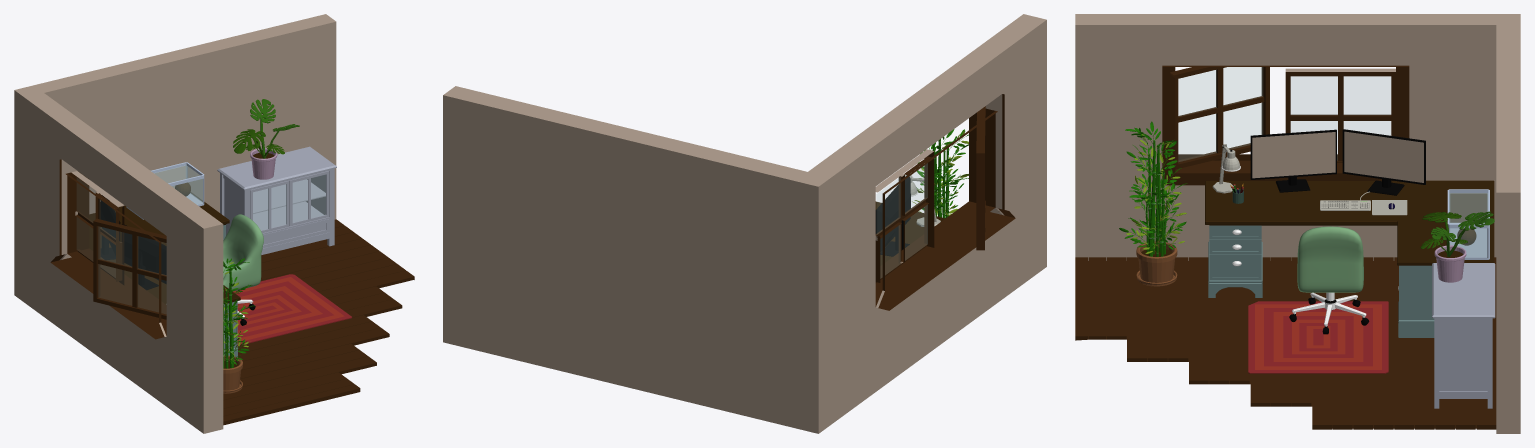
The model's file is screen1.glb.
3 views of the same model, side by side, from view 1: azimuth 30°, elevation 25°; view 2: azimuth 150°, elevation 25°; view 3: azimuth 270°, elevation 25° (orthographic). The views are drawn at different scales.
Parts seen in each view (by area): view 1: walls, cabinet_main, mat, chair_main, monstera, desk_main, bamboo, screen_frame.000, Plane.001, screen_frame.001, pot; view 2: walls, bamboo, screen_frame.000, desk_main; view 3: walls, desk_main, mat, cabinet_main, bamboo, chair_main, screen.001, screen.000, monstera, Plane.001, pot, screen_frame.000 (+5 smaller).
Part boxes in pixels (x1=…): walls: x1=14, y1=14, x2=414, y2=433; cabinet_main: x1=217, y1=146, x2=336, y2=254; mat: x1=233, y1=274, x2=352, y2=345; chair_main: x1=223, y1=214, x2=263, y2=291; monstera: x1=233, y1=99, x2=299, y2=179; desk_main: x1=89, y1=192, x2=240, y2=357; bamboo: x1=223, y1=258, x2=255, y2=368; screen_frame.000: x1=121, y1=224, x2=166, y2=290; Plane.001: x1=126, y1=162, x2=204, y2=219; screen_frame.001: x1=100, y1=195, x2=120, y2=259; pot: x1=223, y1=355, x2=242, y2=393; walls: x1=443, y1=14, x2=1046, y2=433; bamboo: x1=912, y1=129, x2=968, y2=218; screen_frame.000: x1=875, y1=175, x2=910, y2=256; desk_main: x1=875, y1=201, x2=945, y2=265; walls: x1=1075, y1=14, x2=1520, y2=433; desk_main: x1=1205, y1=180, x2=1494, y2=337; mat: x1=1248, y1=301, x2=1388, y2=373; cabinet_main: x1=1432, y1=263, x2=1495, y2=408; bamboo: x1=1119, y1=121, x2=1187, y2=256; chair_main: x1=1297, y1=226, x2=1363, y2=292; screen.001: x1=1252, y1=132, x2=1335, y2=178; screen.000: x1=1344, y1=131, x2=1423, y2=182; monstera: x1=1420, y1=211, x2=1494, y2=282; Plane.001: x1=1447, y1=189, x2=1489, y2=259; pot: x1=1136, y1=241, x2=1177, y2=286; screen_frame.000: x1=1250, y1=129, x2=1336, y2=192.
Size of the model in its own units: 9.56 by 5.49 by 9.19.
